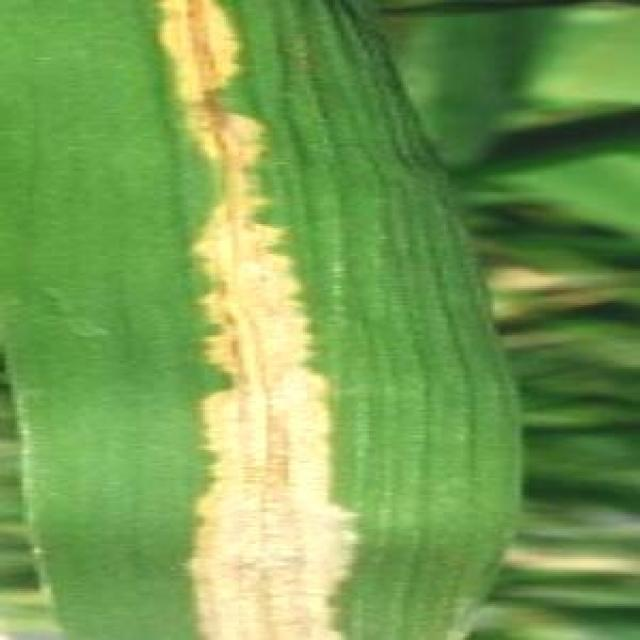Rice_Bacterial_Blight: (38, 0, 494, 638)
